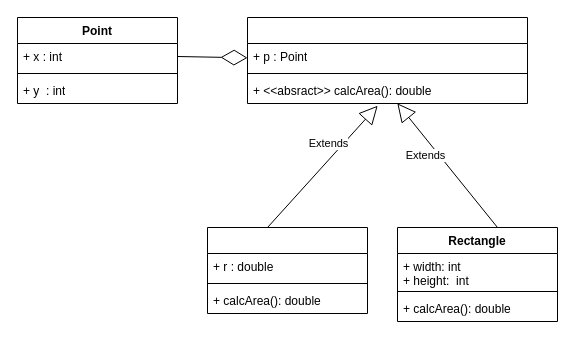
Image size: 575x342. Some labels were removed from this diagram. The shapes that lost their labels are listed below. From the top down, each one's box as (x1, y1, x2, y2) in pixels, then its label:
(246, 16, 528, 104): <<abstract>> Shape
(206, 226, 368, 314): Circle2
